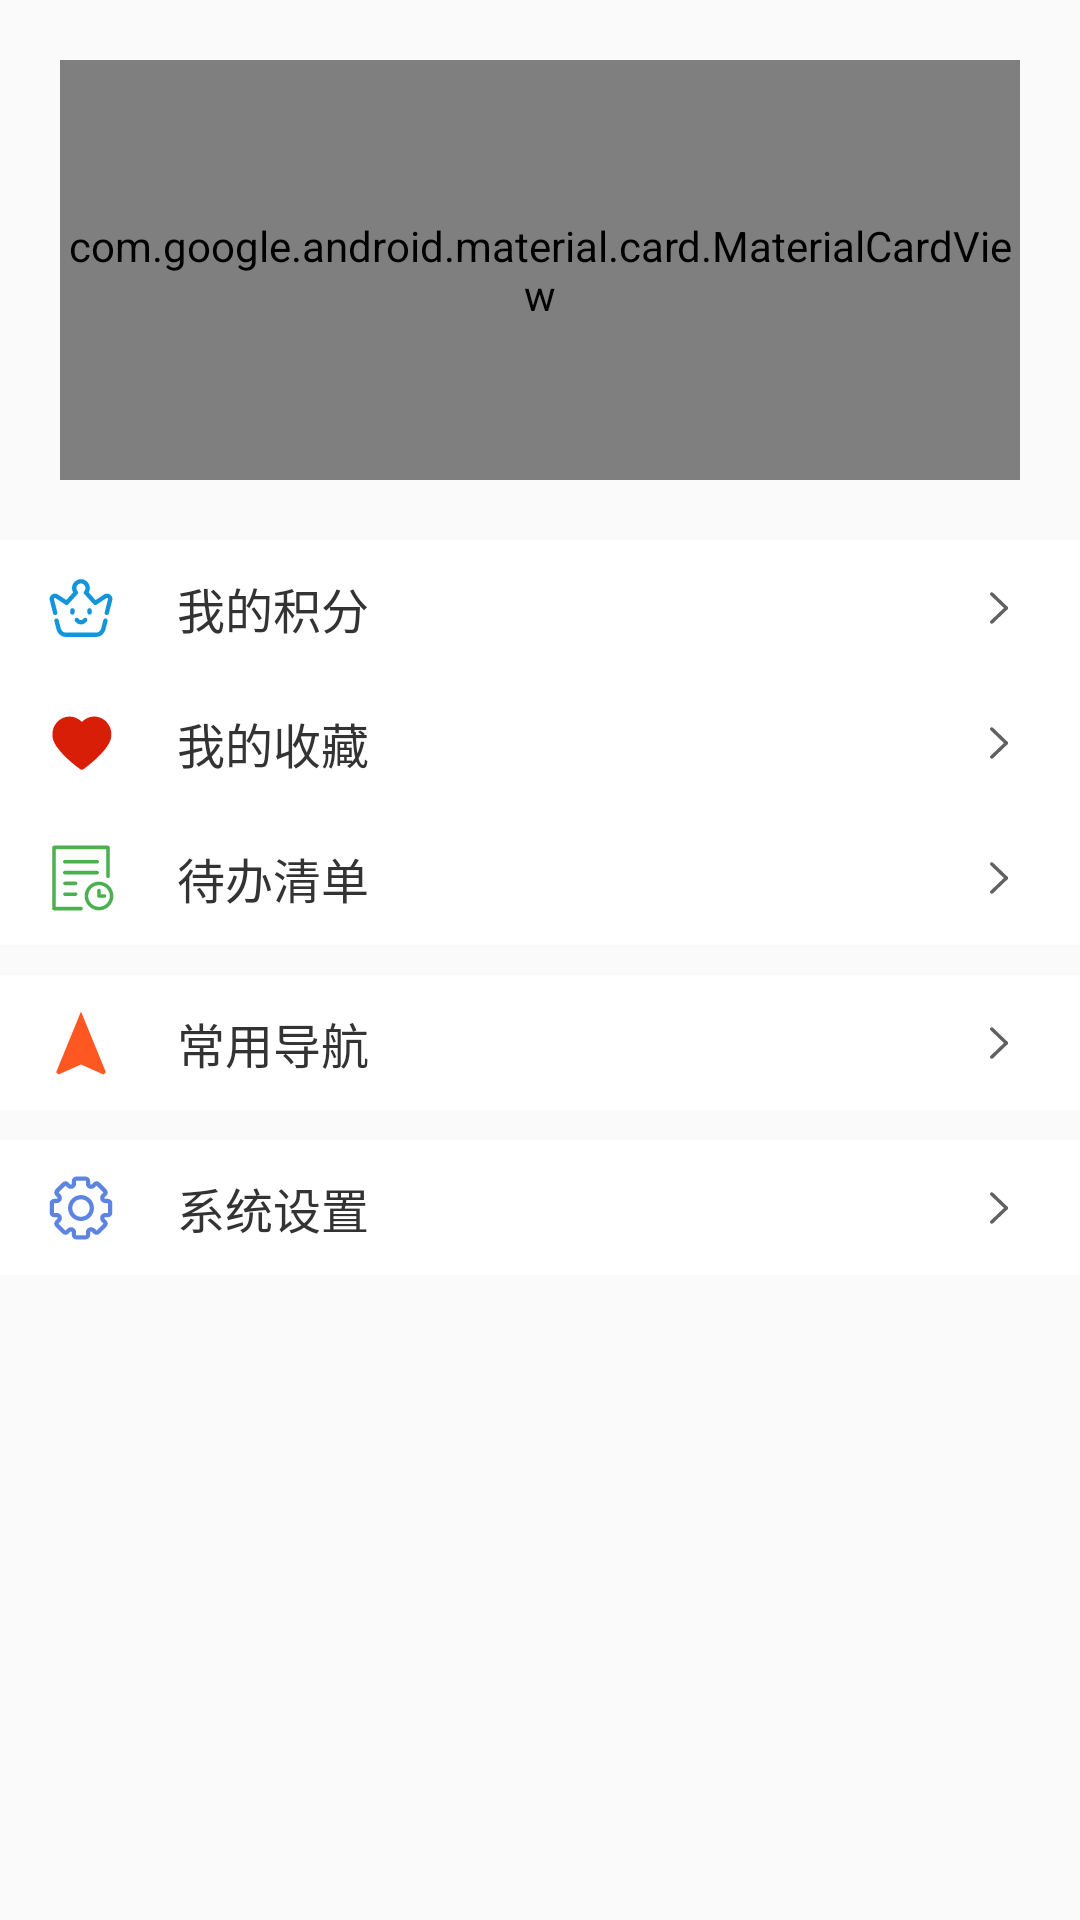

Icon click points for this 1080px x 1920px phone screenshot, format (x=x, y=y):
arrow right: (x=999, y=608), (x=999, y=743), (x=999, y=878), (x=999, y=1043), (x=999, y=1208)
love: (x=82, y=743)
navigation: (x=81, y=1043)
setting: (x=81, y=1208)
todo: (x=83, y=878)
